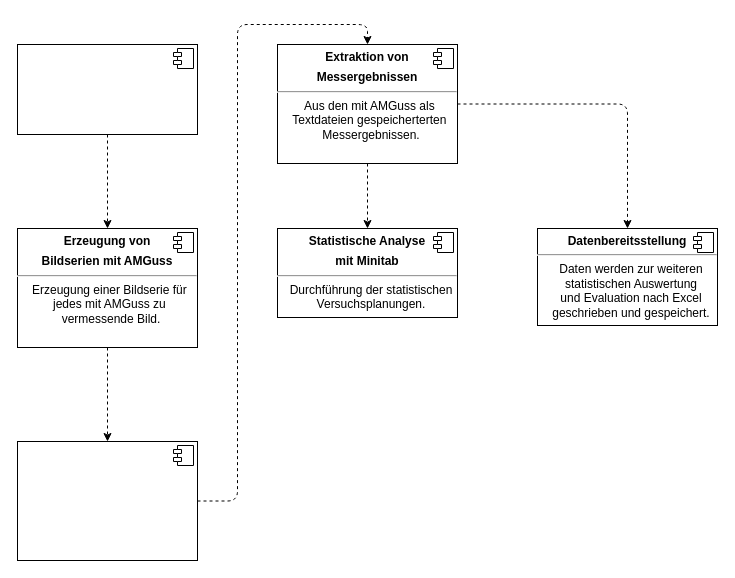
Image size: 735x578. Some labels were removed from this diagram. Here are the shapes that lost their labels. From the top down, the centre of each, then its label:
At pixel 107 89: "Bildskalierung Erzeugung von Bildern in unterschiedlichen Kalibrierungsstufen".
At pixel 107 500: "Messungen mit AMGuss Durchführung der automatisierten Lamellengraphit-Messungen.".
